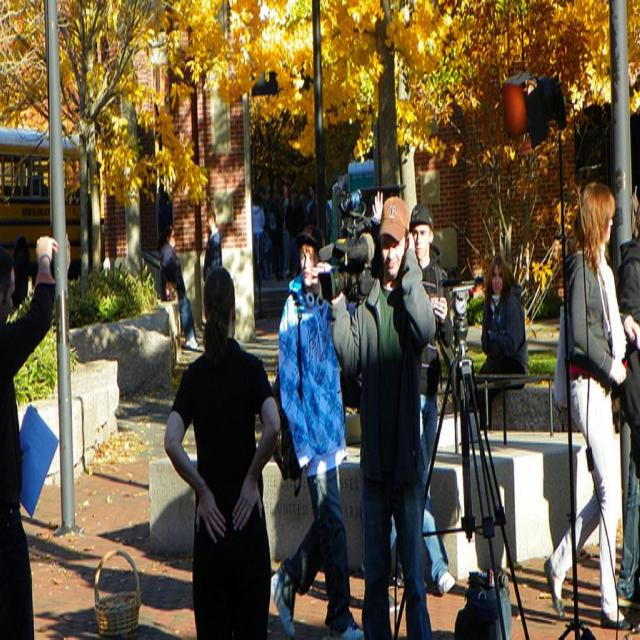nomask: (380, 226, 402, 277), (300, 243, 314, 286), (412, 223, 428, 258), (600, 203, 612, 240), (492, 267, 502, 293)
